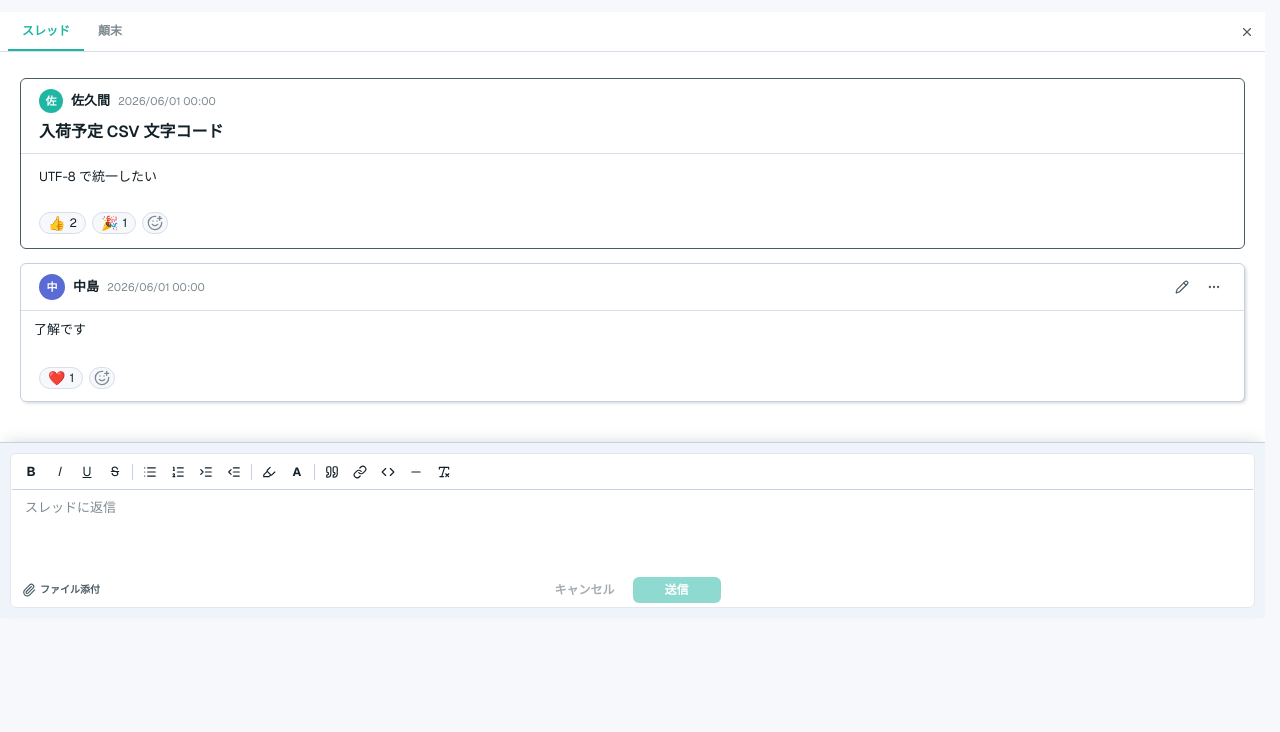
Test: ChatThread — 顛末タブは誰でも編集可（rete-desk-0122 / 旧 0119 所有ゲートを撤去） › 非所有者でも顛末タブで RTE エディタ・保存ボタンを出す（決着を記すのは投稿者本人とは限らない）
Click the tab "顛末" at coordinates (110, 32), box [84, 12, 136, 51]
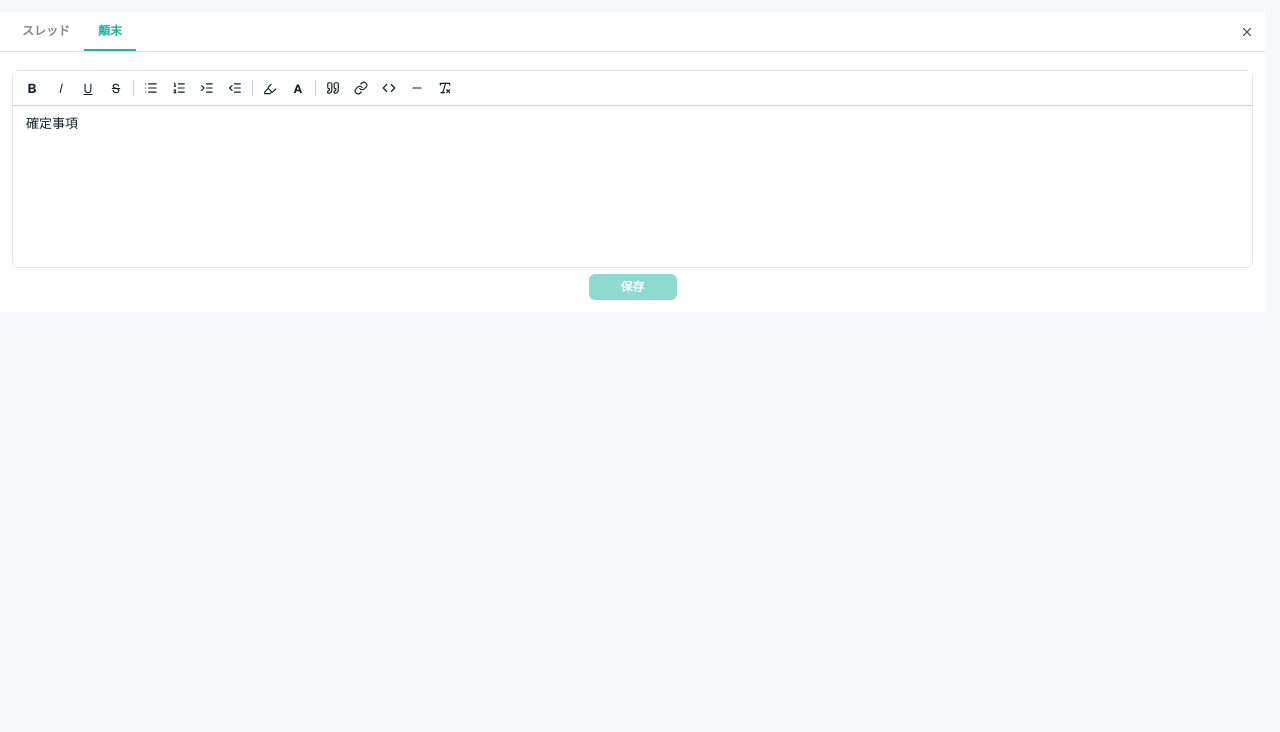
Now the field named "顛末" is shown, box [26, 115, 78, 132]
Now the button "保存" is shown, box [588, 274, 676, 300]
